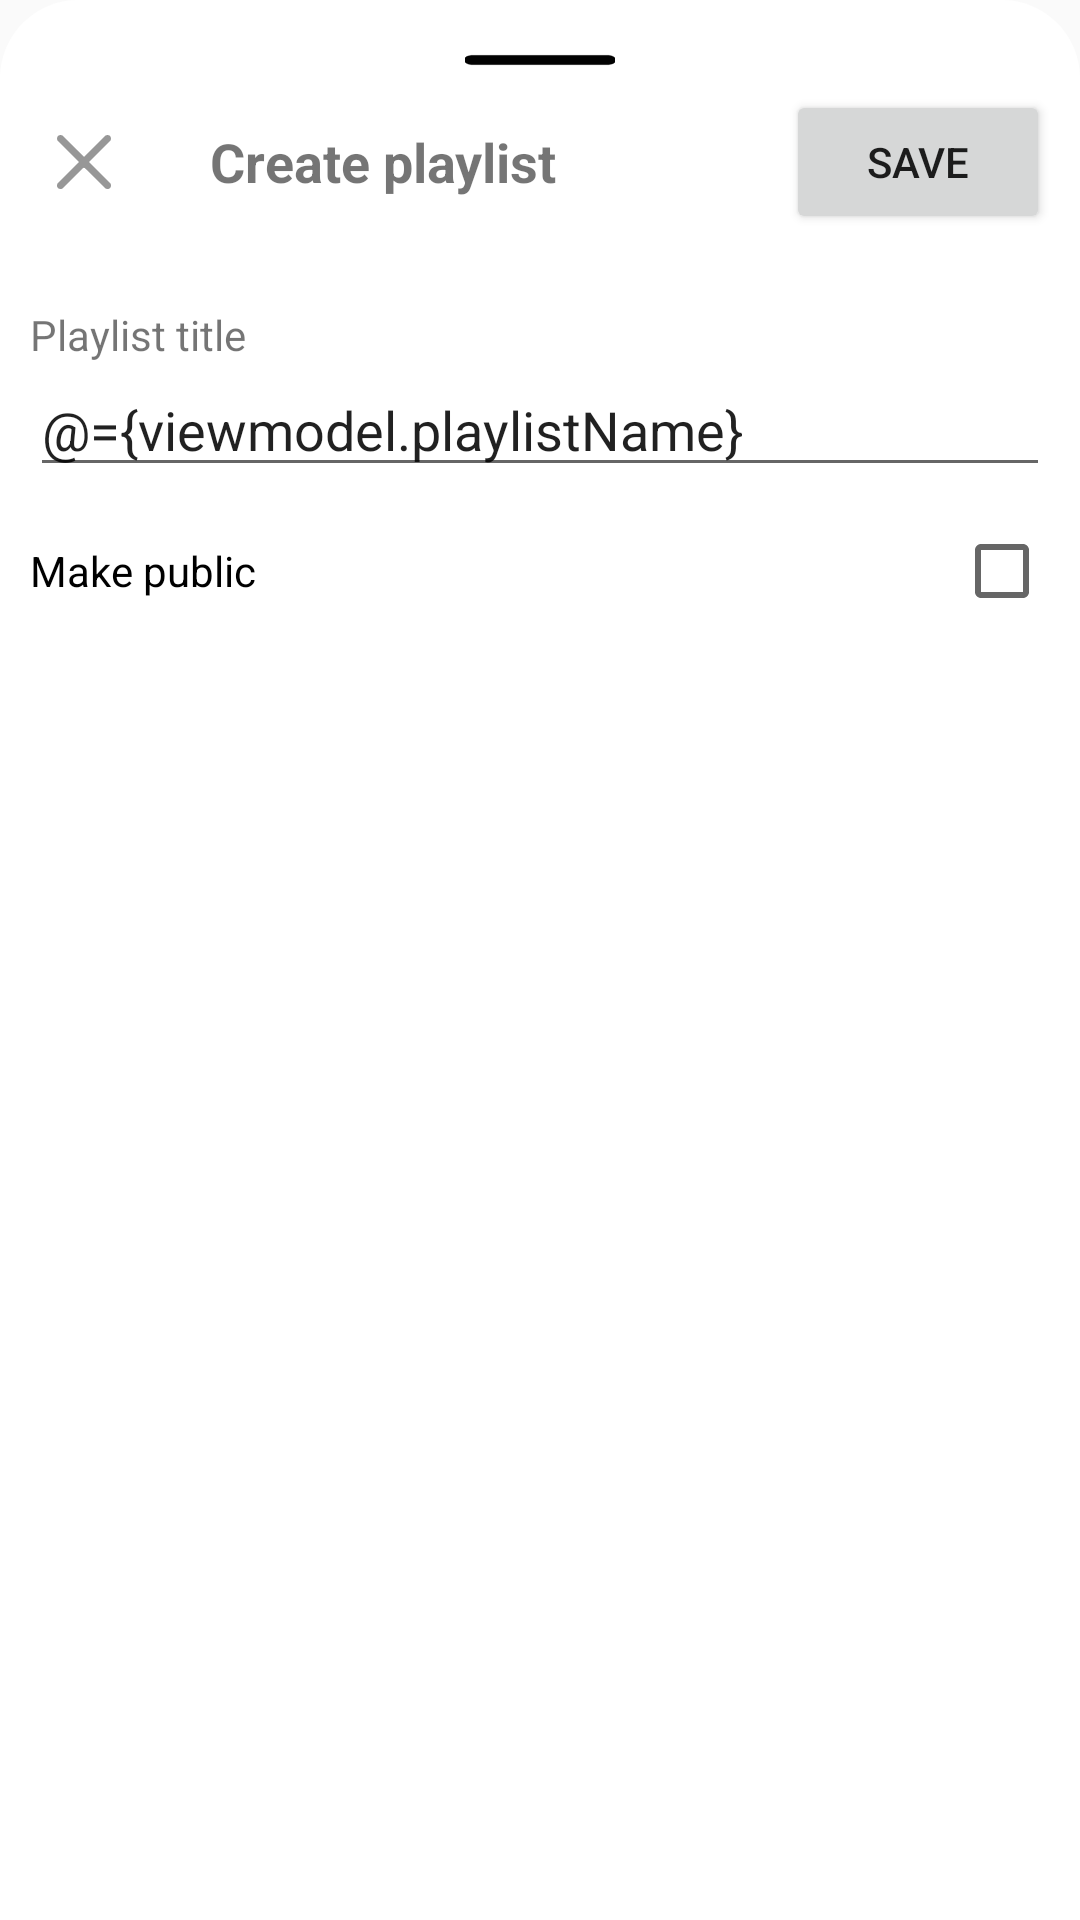

Where to tap for icons on this 1080*1920 app screen, as point (x, y):
close: point (84, 162)
